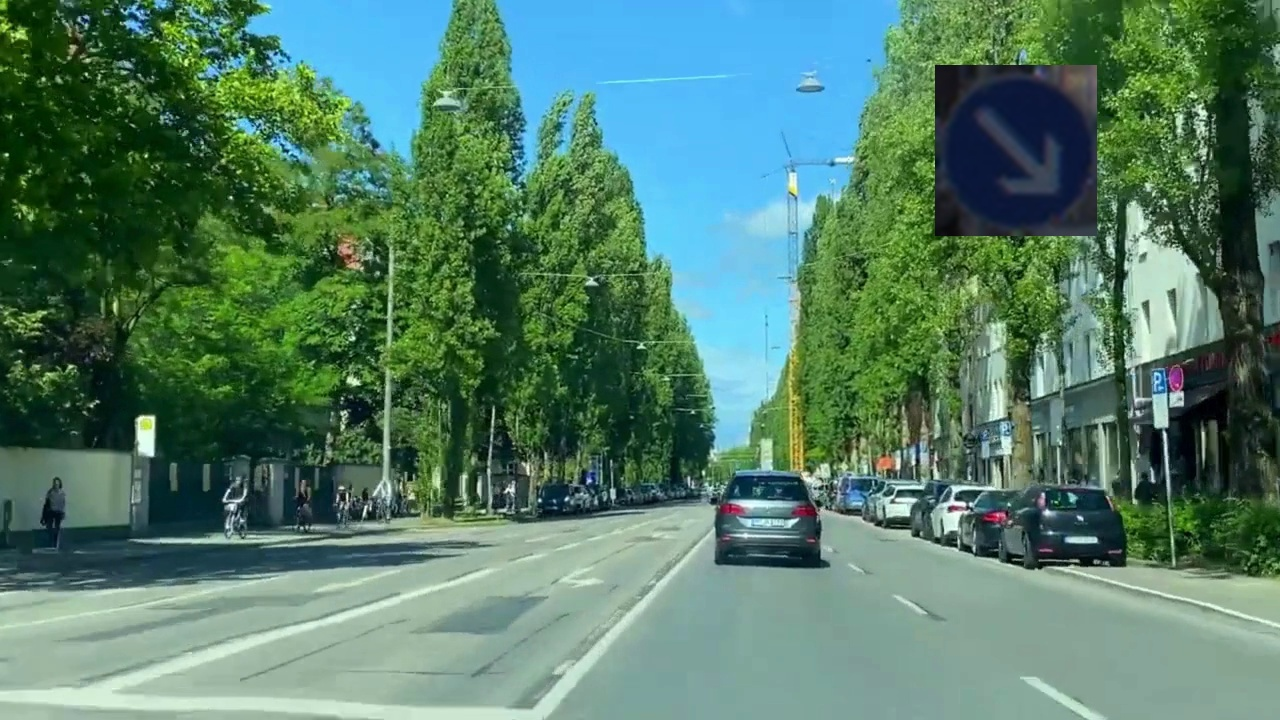Keep right: (935, 65, 1097, 236)
